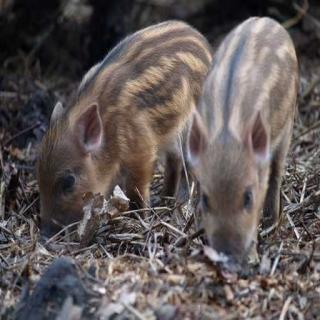Pig: (30, 0, 213, 275), (195, 12, 320, 289)
